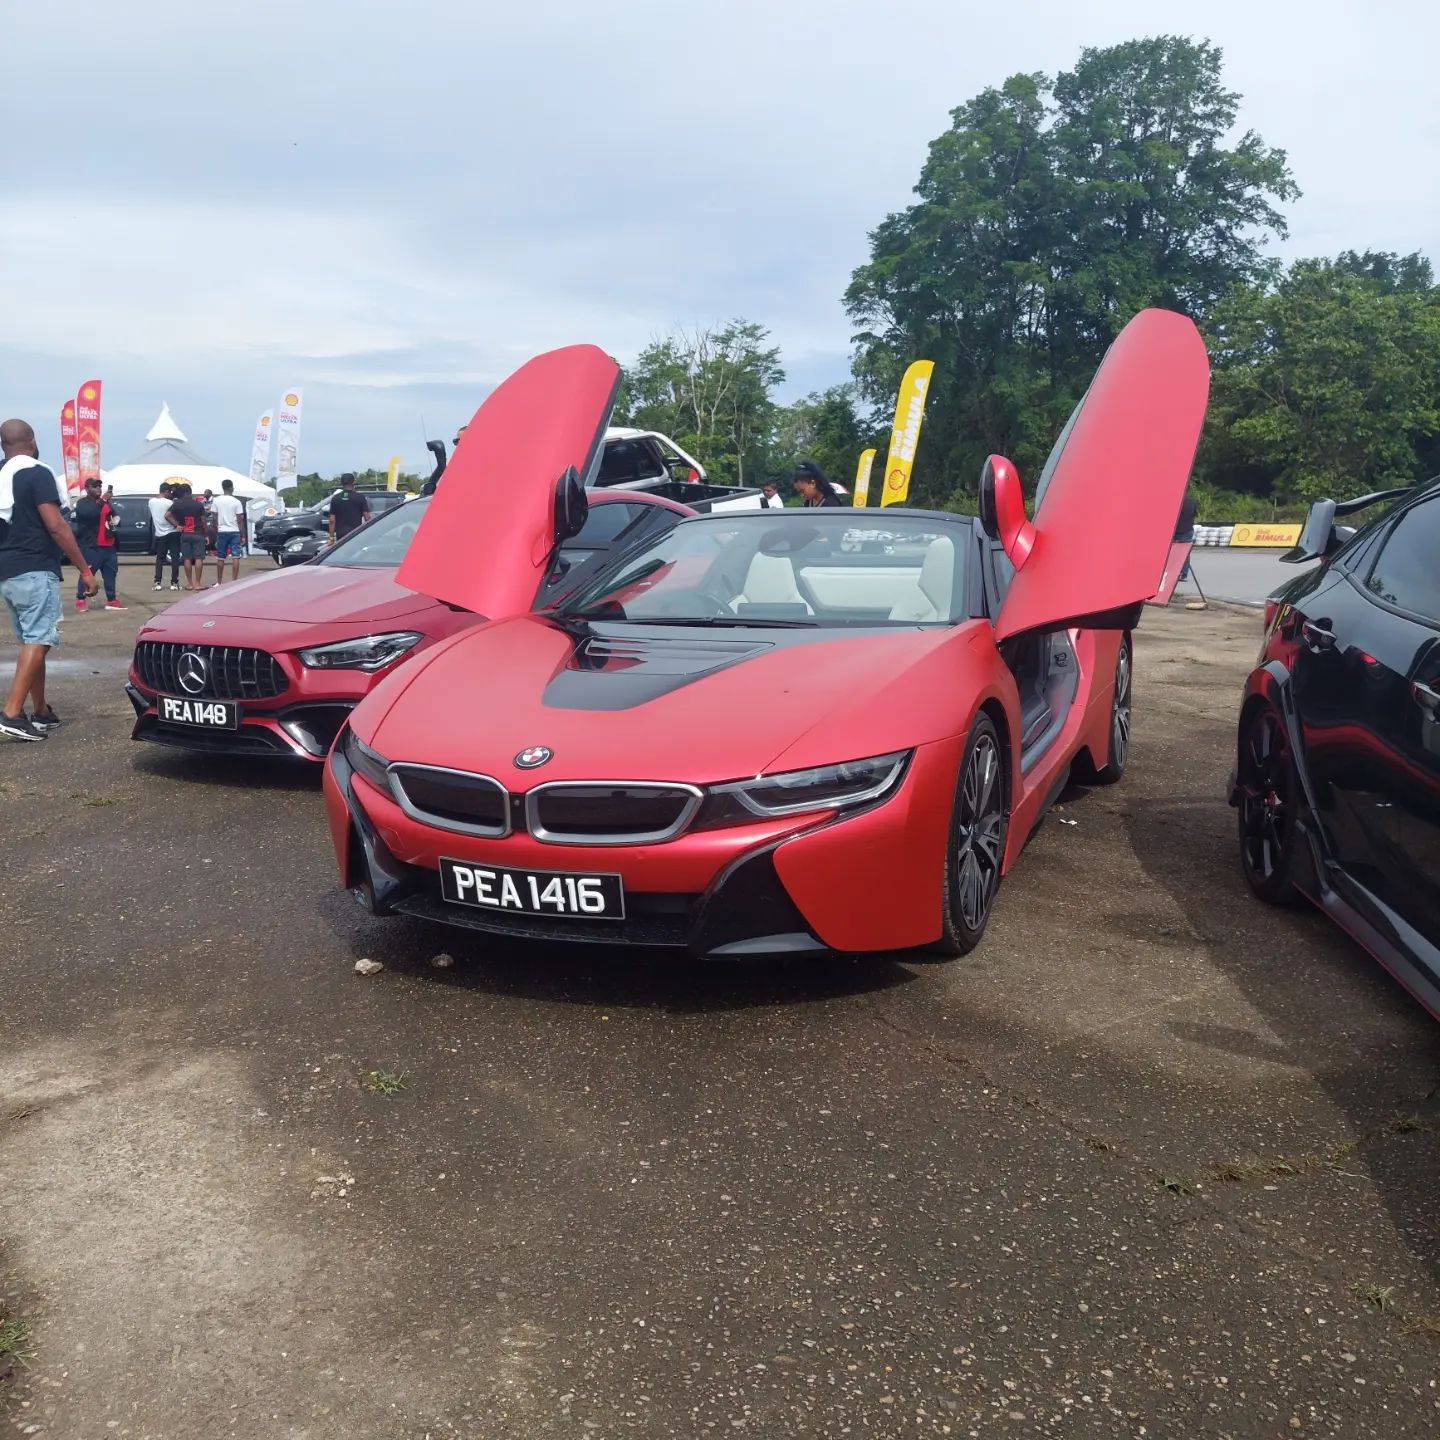License-Plate: (448, 862, 618, 902), (160, 695, 234, 720)
